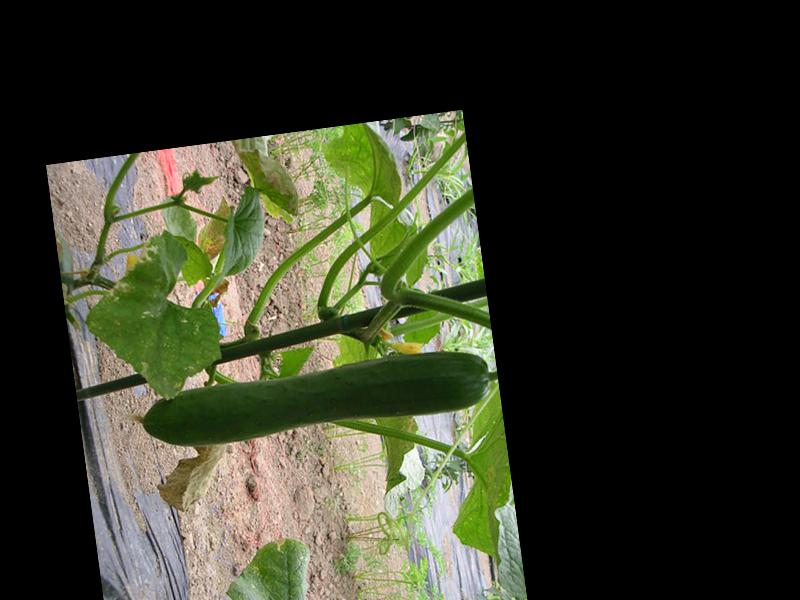Cucumber: (128, 343, 493, 454)
